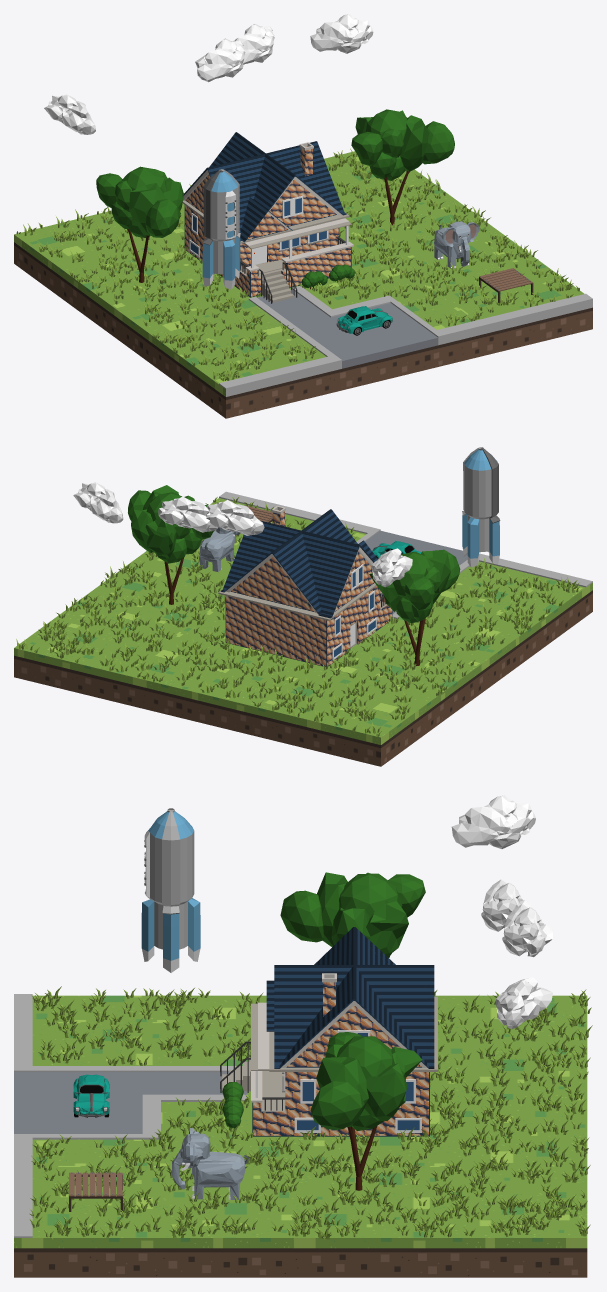
3 renders of one model, top to bottom at view 1: azimuth 30°, elevation 25°; view 2: azimuth 150°, elevation 25°; view 3: azimuth 270°, elevation 25°, orthographic. The views are drawn at different scales.
Parts seen in each view (by area): view 1: Cube.006, Circle.012_Grass_0.192, Cube.430, Cube.007, tree, tree.001, OBJRANDOM_ROCKETSHIP, ANIMAL_ELEFANTE, VEHICLES_VOLKSWAGEN, Cube.009; view 2: Cube.006, Cube.430, Circle.012_Grass_0.192, Cube.007, OBJRANDOM_ROCKETSHIP, tree.001, tree, ANIMAL_ELEFANTE; view 3: Cube.006, Circle.012_Grass_0.192, Cube.430, tree, Cube.007, tree.001, OBJRANDOM_ROCKETSHIP, ANIMAL_ELEFANTE, VEHICLES_VOLKSWAGEN, Cube.009.
Part boxes in pixels (box(x1,y1,x2,y2)): Cube.006: box(14, 151, 592, 418); Circle.012_Grass_0.192: box(16, 148, 579, 381); Cube.430: box(182, 132, 353, 303); Cube.007: box(44, 14, 373, 134); tree: box(351, 109, 454, 225); tree.001: box(96, 166, 183, 282); OBJRANDOM_ROCKETSHIP: box(202, 169, 240, 289); ANIMAL_ELEFANTE: box(434, 221, 479, 269); VEHICLES_VOLKSWAGEN: box(336, 306, 392, 335); Cube.009: box(479, 268, 533, 302); Cube.006: box(14, 491, 592, 766); Cube.430: box(218, 506, 392, 666); Circle.012_Grass_0.192: box(16, 497, 579, 736); Cube.007: box(73, 482, 412, 587); OBJRANDOM_ROCKETSHIP: box(462, 447, 500, 567); tree.001: box(369, 549, 460, 665); tree: box(128, 485, 213, 604); ANIMAL_ELEFANTE: box(199, 527, 240, 571); Cube.006: box(14, 994, 587, 1277); Circle.012_Grass_0.192: box(29, 986, 592, 1239); Cube.430: box(220, 927, 437, 1136); tree: box(310, 1032, 422, 1190); Cube.007: box(451, 795, 552, 1029); tree.001: box(280, 872, 425, 957); OBJRANDOM_ROCKETSHIP: box(141, 808, 200, 972); ANIMAL_ELEFANTE: box(172, 1128, 248, 1199); VEHICLES_VOLKSWAGEN: box(73, 1074, 109, 1117); Cube.009: box(69, 1172, 122, 1211).
Bounding box in the file's own units: 4071 × 2175 × 4040.
Materials: 38 (4 with a texture image).
